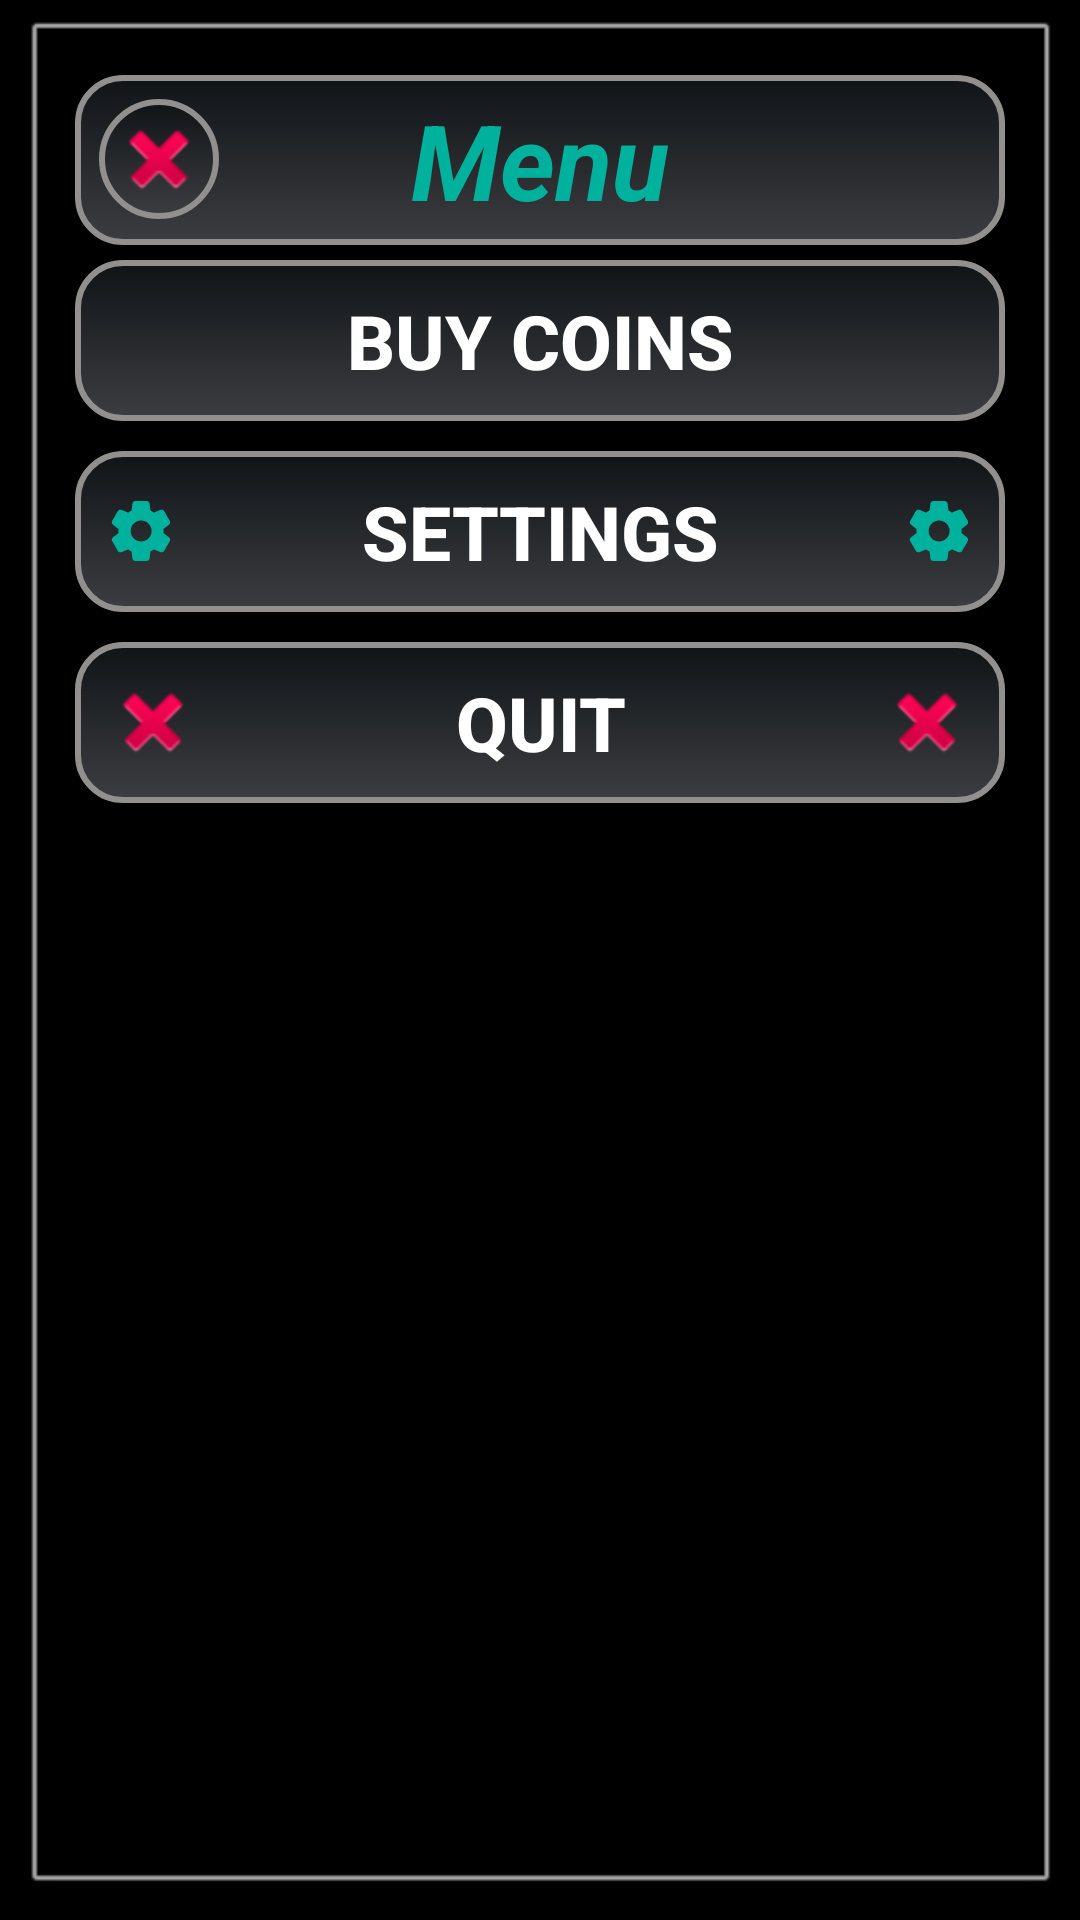

Where icons sit on this 1080px×1920px app screen, as (x1, y1, x2, y2):
delete: (99, 99, 219, 219)
